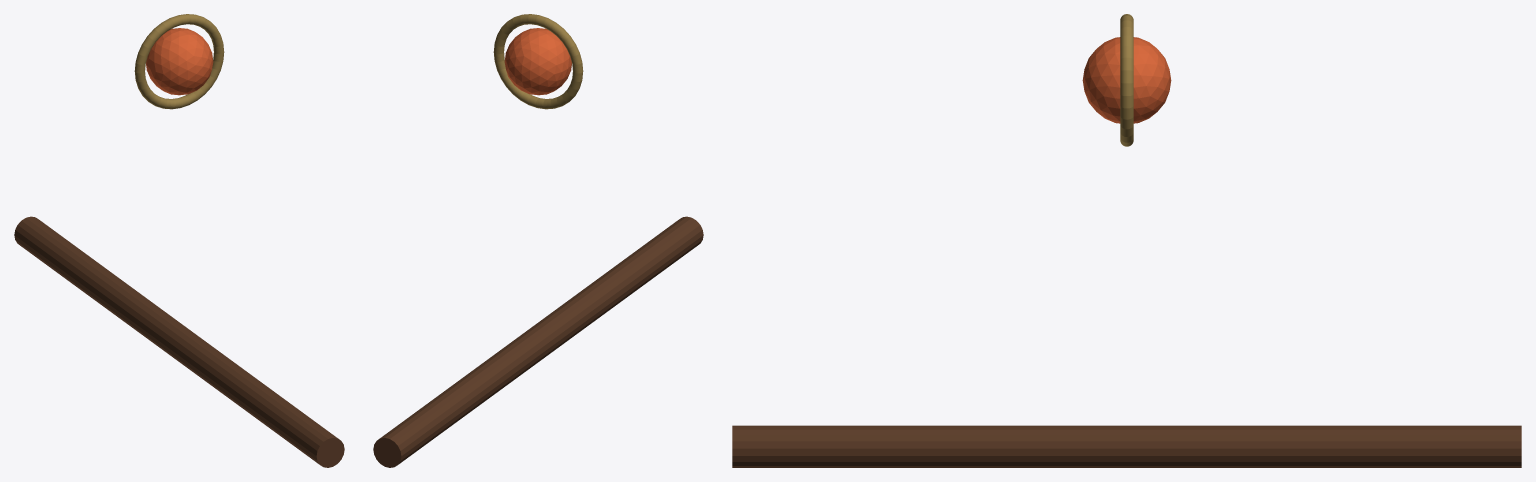
Rendered from arcane_staff.glb.
3 views of the same model, side by side, from view 1: azimuth 30°, elevation 25°; view 2: azimuth 150°, elevation 25°; view 3: azimuth 270°, elevation 25° (orthographic). The views are drawn at different scales.
Parts seen in each view (by area): view 1: arcane_staff_0, arcane_staff_1, arcane_staff_2; view 2: arcane_staff_0, arcane_staff_1, arcane_staff_2; view 3: arcane_staff_0, arcane_staff_1, arcane_staff_2.
Part boxes in pixels (x1,y1,x2,y2): arcane_staff_0: (14, 216, 344, 467); arcane_staff_1: (146, 28, 213, 95); arcane_staff_2: (134, 14, 224, 109); arcane_staff_0: (373, 216, 703, 467); arcane_staff_1: (504, 28, 571, 95); arcane_staff_2: (493, 14, 583, 109); arcane_staff_0: (732, 425, 1521, 467); arcane_staff_1: (1082, 37, 1171, 123); arcane_staff_2: (1120, 14, 1133, 146).
Size of the model in its own units: 0.69 by 2.55 by 4.1.
